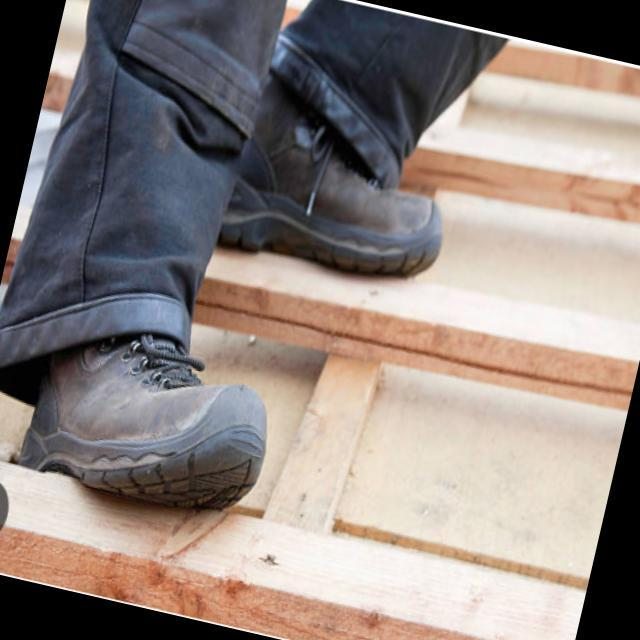shoes: (0, 0, 483, 559)
